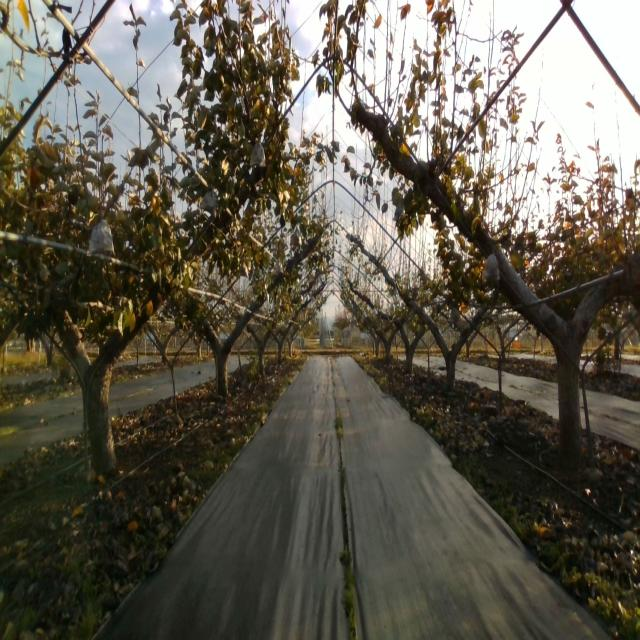pearbags: (88, 208, 115, 255), (481, 250, 500, 285), (249, 134, 267, 170), (200, 187, 218, 220), (392, 196, 406, 223), (450, 307, 463, 332)
